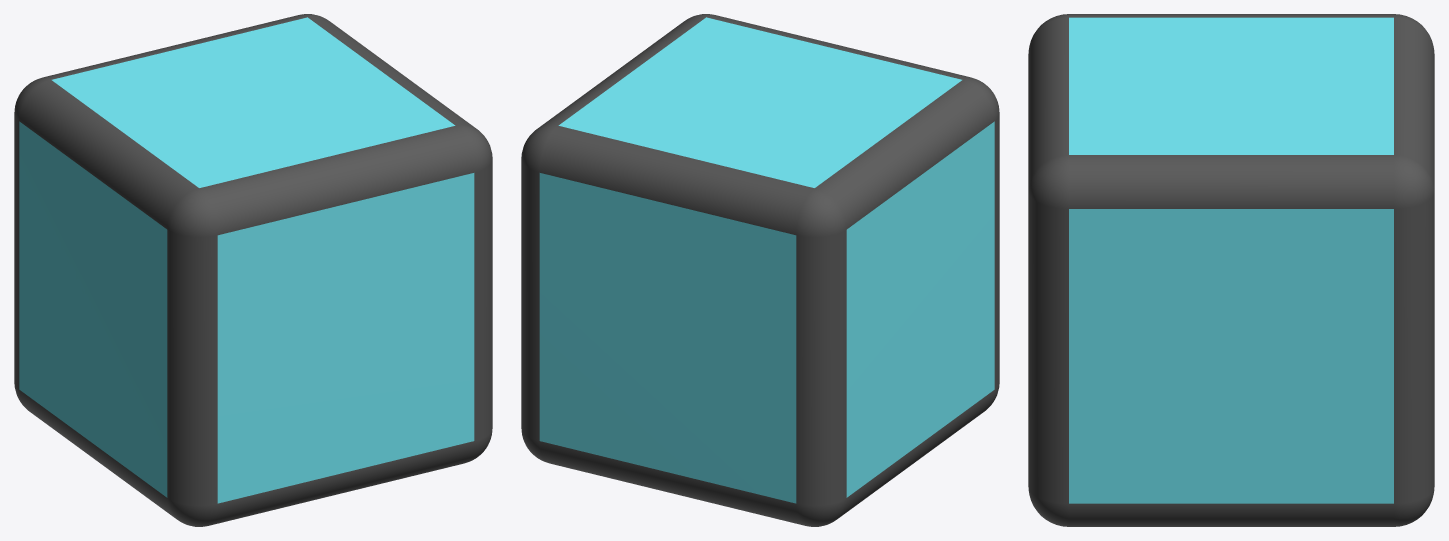
Rendered from stone8.glb.
The picture shows the model from 3 angles, left to right: view 1: azimuth 30°, elevation 25°; view 2: azimuth 150°, elevation 25°; view 3: azimuth 270°, elevation 25°; orthographic projection. The views are drawn at different scales.
Visible parts, largest first — view 1: Cube; view 2: Cube; view 3: Cube.
Part boxes in pixels (box(x1,y1,x2,y2)): Cube: box(14, 14, 492, 526); Cube: box(521, 14, 999, 526); Cube: box(1028, 14, 1434, 526).
Bounding box in the file's own units: 1 × 1 × 1.
